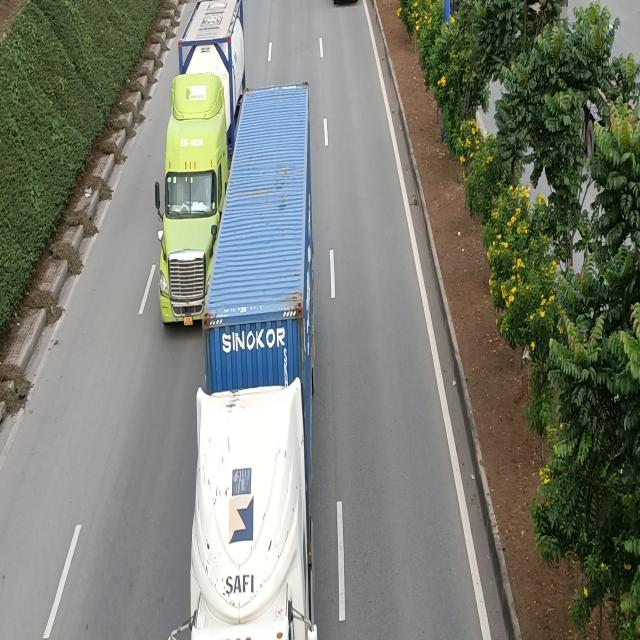container: (186, 82, 320, 640), (154, 0, 247, 333)
